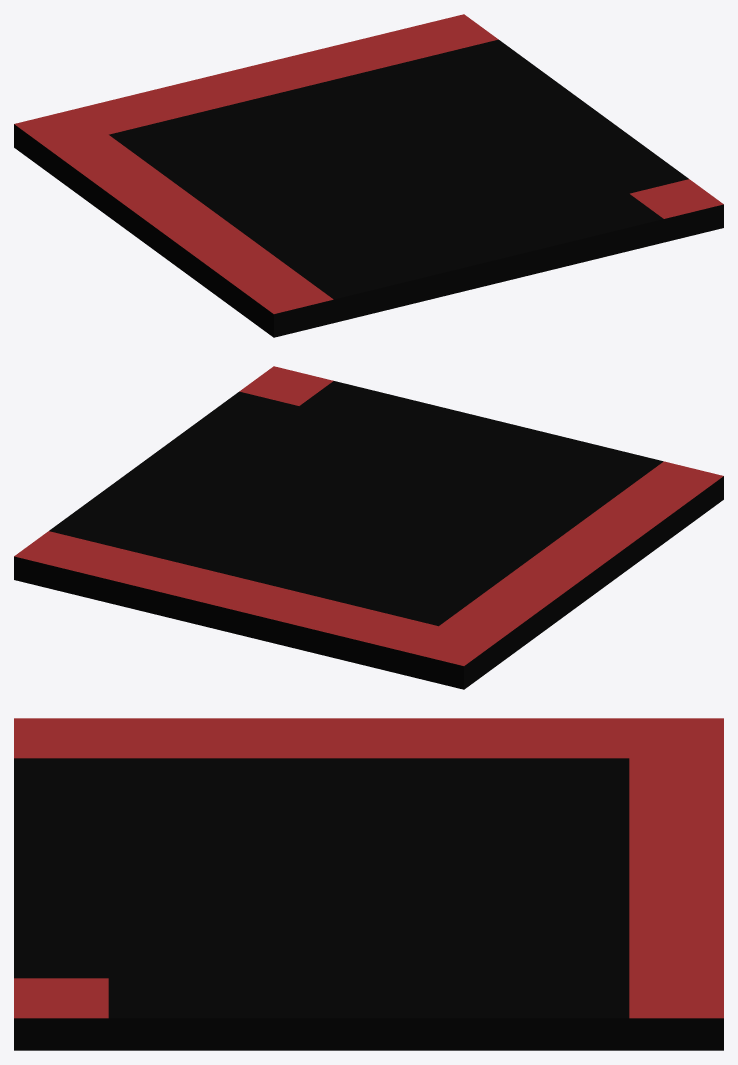
File: turn_road_start.fbx
3 renders of one model, top to bottom at view 1: azimuth 30°, elevation 25°; view 2: azimuth 150°, elevation 25°; view 3: azimuth 270°, elevation 25°, orthographic. The views are drawn at different scales.
Visible parts, largest first — view 1: Cube.001; view 2: Cube.001; view 3: Cube.001.
Part boxes in pixels (x1=…): Cube.001: x1=14, y1=14, x2=723, y2=337; Cube.001: x1=14, y1=366, x2=723, y2=689; Cube.001: x1=14, y1=718, x2=723, y2=1050.
Bounding box in the file's own units: 200 × 10 × 200.
